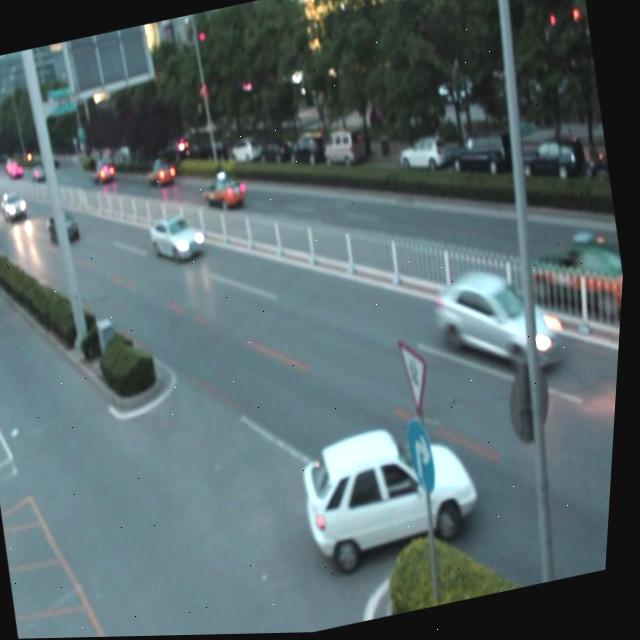car: (298, 414, 492, 565), (434, 257, 575, 390), (524, 236, 619, 329), (149, 210, 210, 266), (201, 173, 252, 215), (49, 210, 85, 246), (147, 156, 181, 190)
